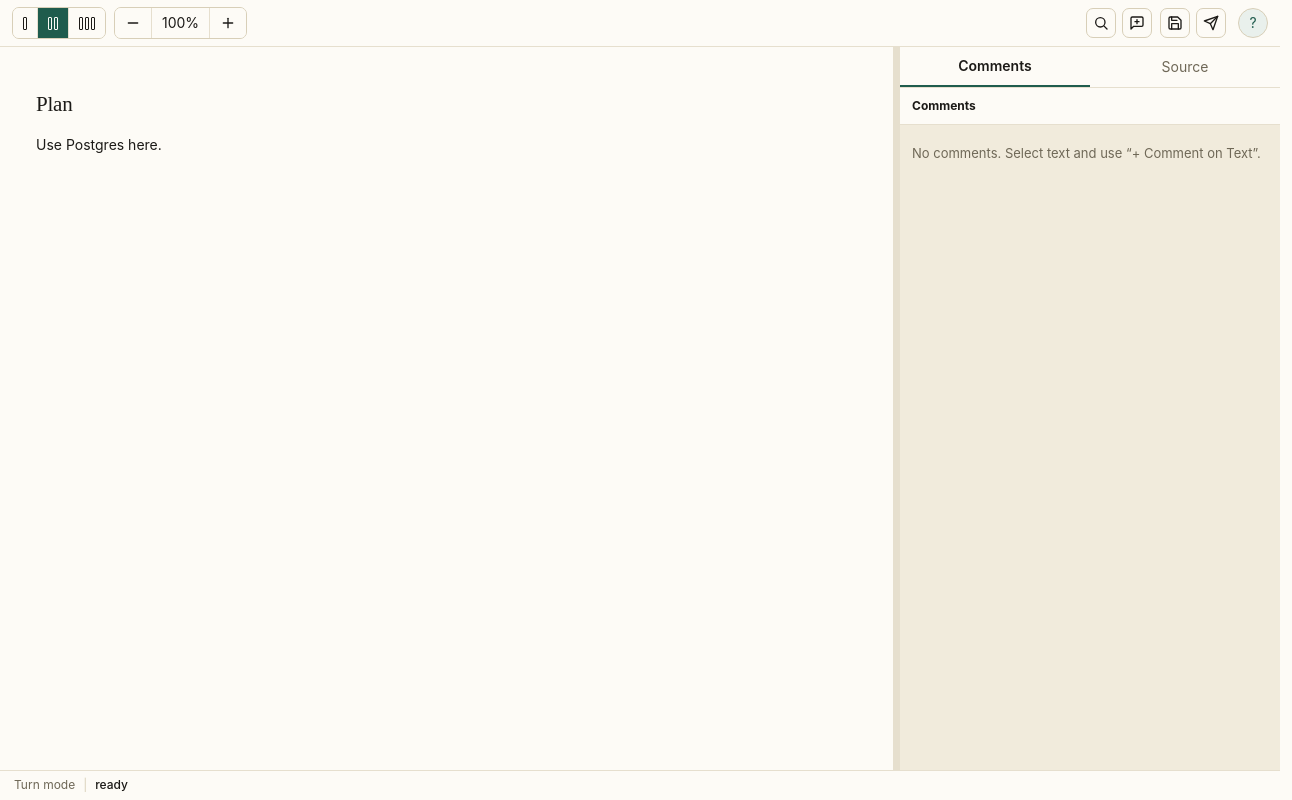
Test case: App-level addComment overlap/anchor gate (protects addSpanComment) › creates the span comment for a clean, non-overlapping selection
Click the button named "comment on text".
click(1137, 23)  # box [1122,8,1152,38]
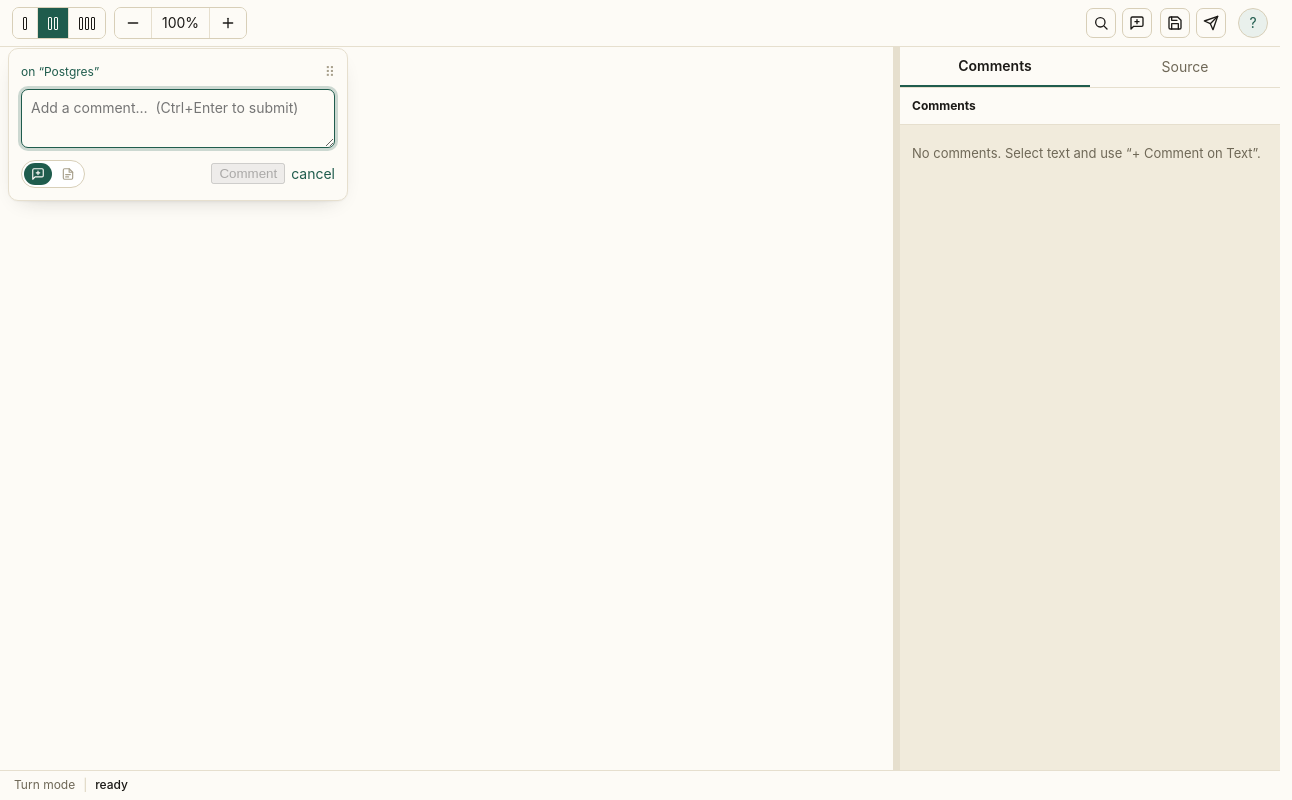
Type "Anchor it to Postgres." into the dropdown with placeholder "Add a comment… (Ctrl+Enter to submit)".
click(178, 118); type("Anchor it to Postgres.")  # box [21,89,335,148]
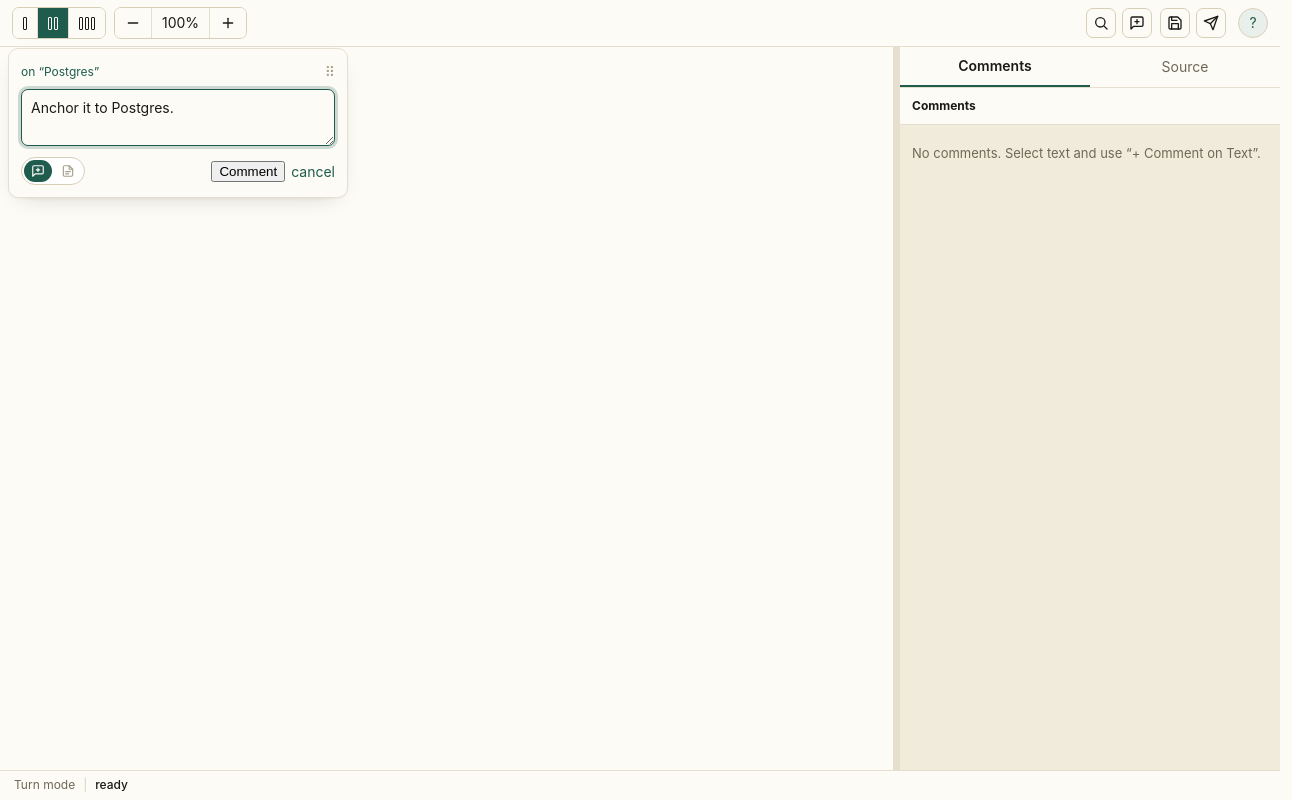
Click the button "Comment".
click(248, 171)  # box [211,161,285,182]
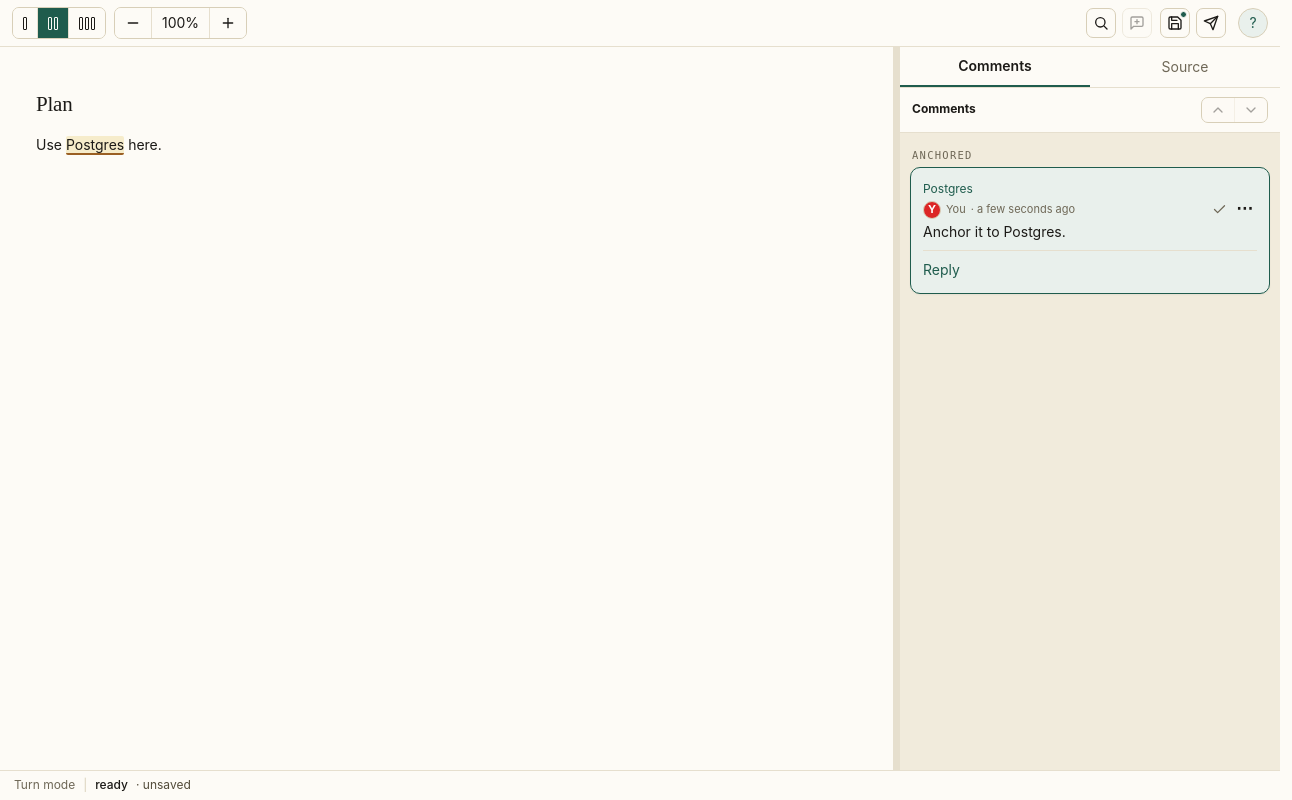
Expected: the field with placeholder "Add a comment" is not shown
Result: the text "Anchor it to Postgres." is shown at [923,222,1066,240]
Result: the link "Postgres" is shown at [66,136,124,155]
